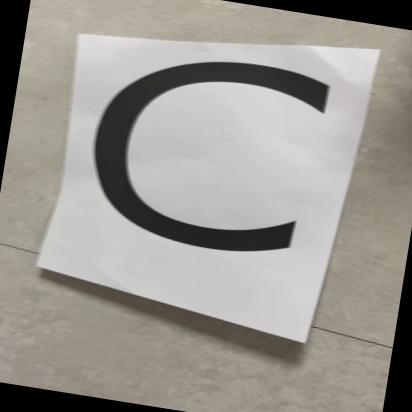seat: (28, 23, 380, 319)
